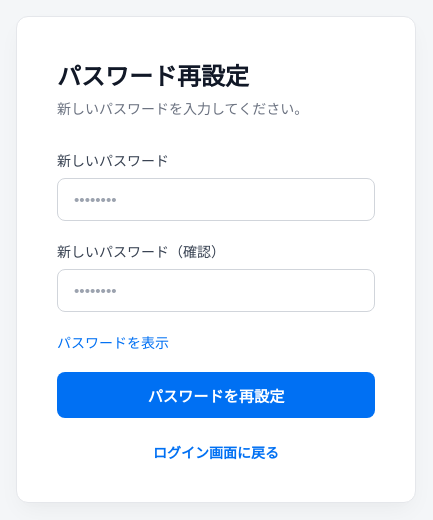
Test: ResetPasswordForm パスワード再設定処理 › 再設定成功後、完了メッセージを表示すること
In the password field labelled "新しいパスワード": (216, 199) [57,178,375,220], type "password123"
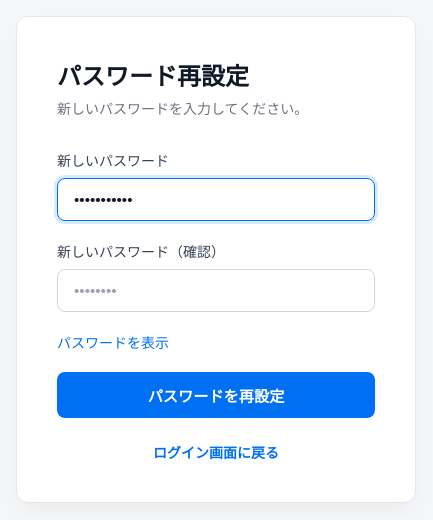
In the password field labelled "新しいパスワード（確認）": (216, 290) [57,268,375,312], type "password123"
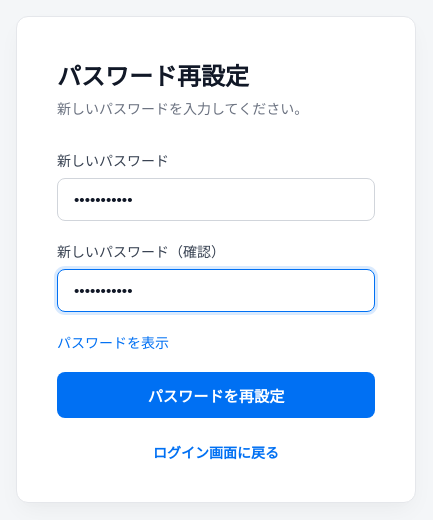
Click the button "パスワードを再設定": (216, 394) [57,372,375,418]
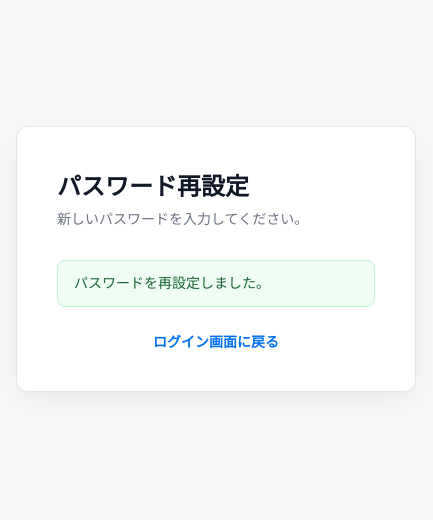
Check: the message reads "パスワードを再設定しました。", box [74,275,270,291]
